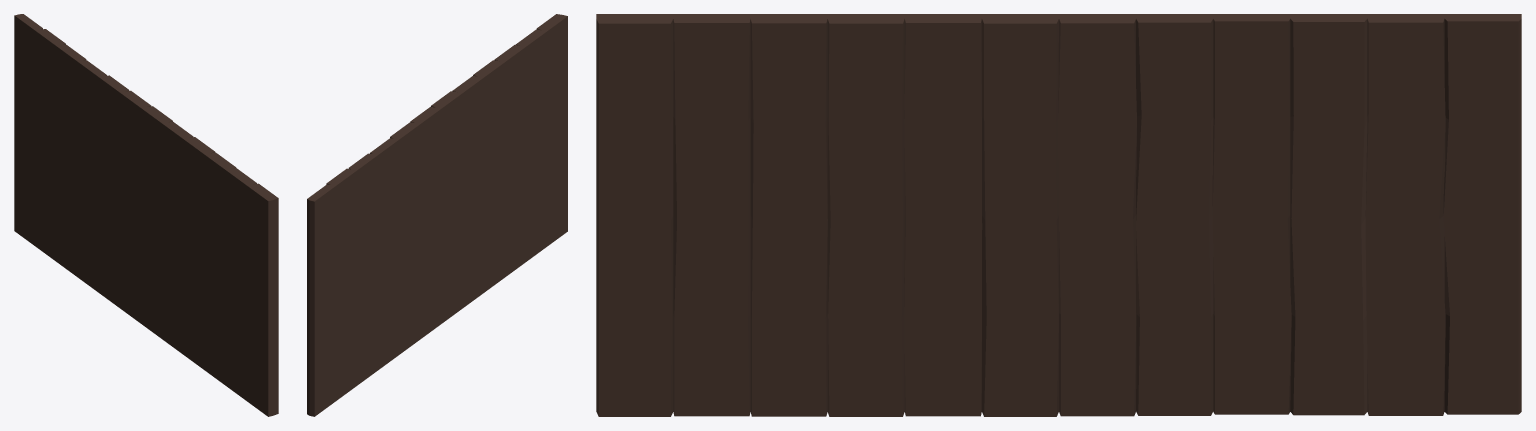
File: Wall.fbx
3 renders of one model, left to right at view 1: azimuth 30°, elevation 25°; view 2: azimuth 150°, elevation 25°; view 3: azimuth 270°, elevation 25°, orthographic. The views are drawn at different scales.
Parts seen in each view (by area): view 1: Wall1; view 2: Wall1; view 3: Wall1.
Part boxes in pixels (<box>): Wall1: <box>14,14,278,416</box>; Wall1: <box>307,14,567,416</box>; Wall1: <box>596,14,1521,416</box>.
Bounding box in the file's own units: 0.2996 × 5.63 × 12.01.
